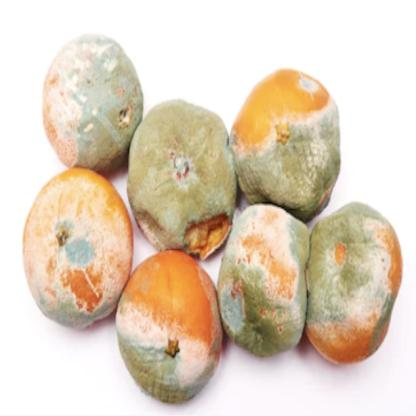rotten: (21, 30, 403, 401)
